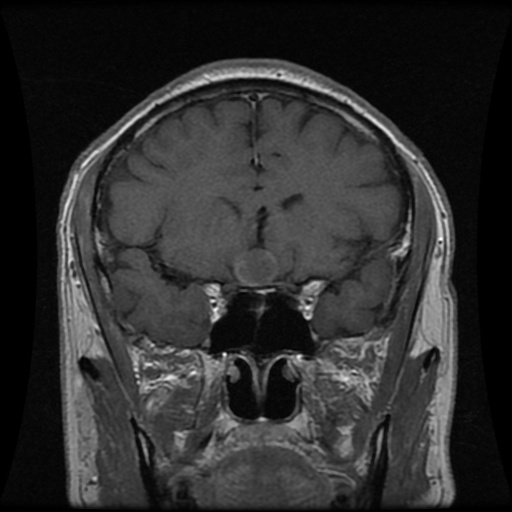pituitary: (235, 247, 279, 286)
